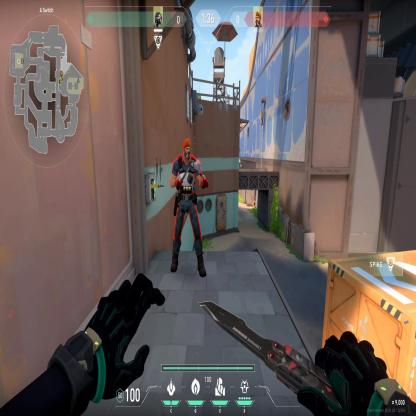enemy: (165, 134, 209, 282)
